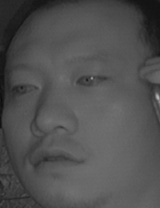eye: (73, 70, 106, 90), (12, 77, 40, 97)
mouth: (26, 141, 87, 176)
